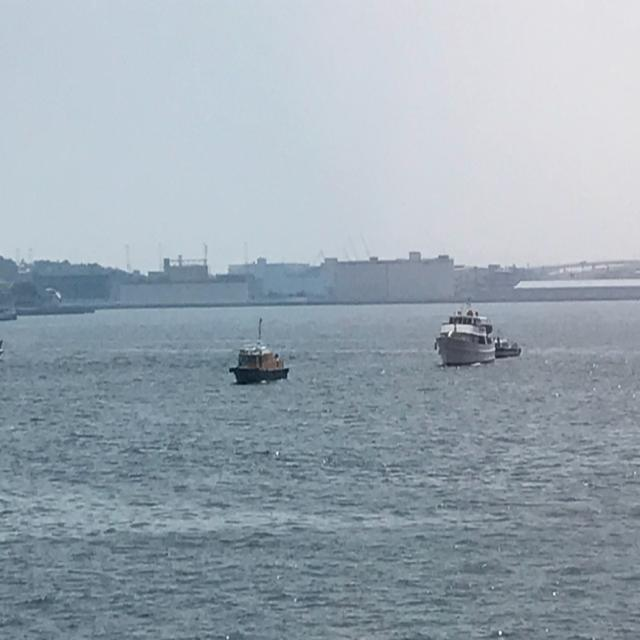houseboat: (228, 313, 290, 390), (434, 294, 499, 366)
